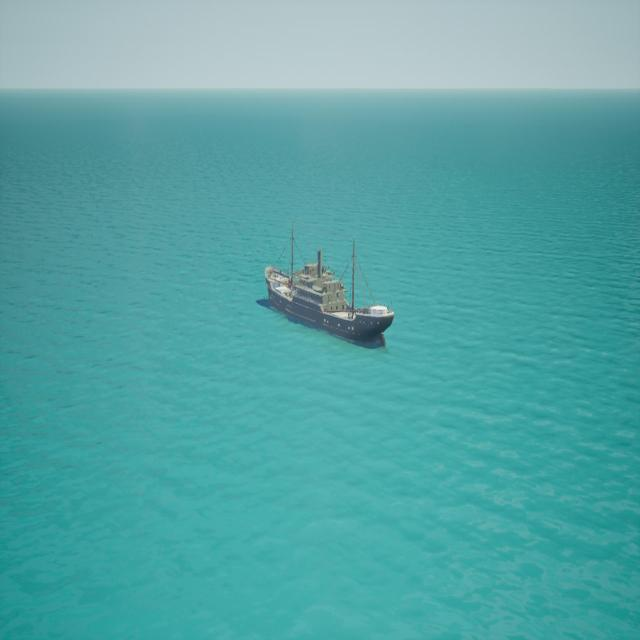fishing ship: (261, 228, 396, 350)
